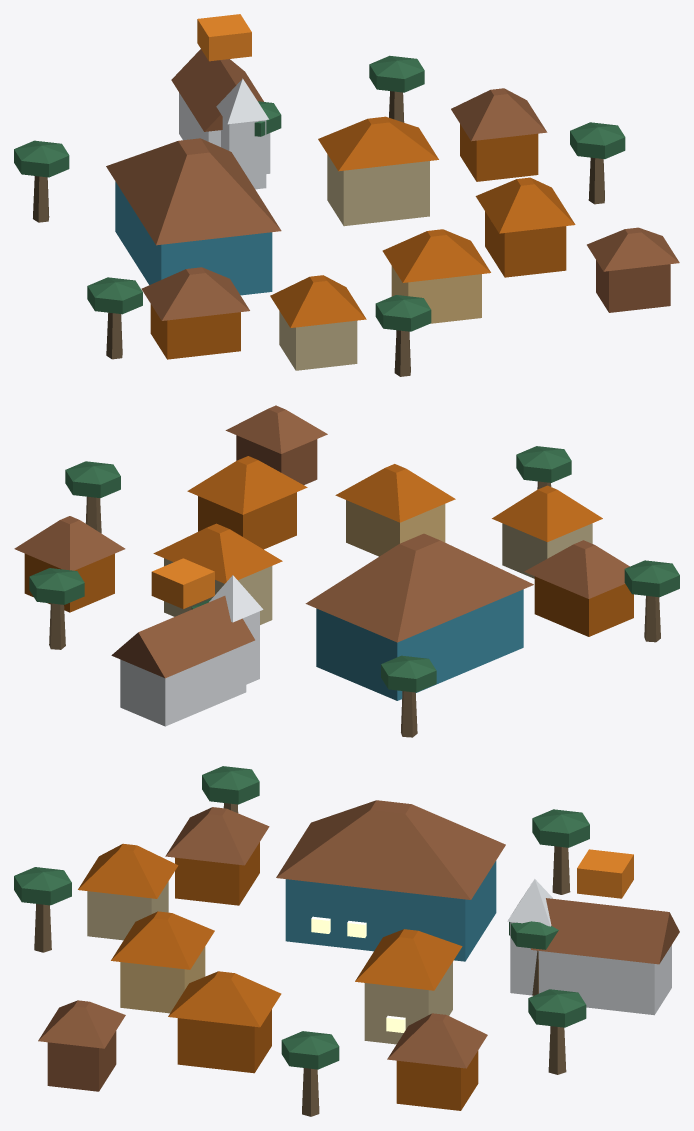
Rendered from overworld-settlement-latin-american-rural.glb.
The picture shows the model from 3 angles, top to bottom: view 1: azimuth 30°, elevation 25°; view 2: azimuth 150°, elevation 25°; view 3: azimuth 270°, elevation 25°; orthographic projection. The views are drawn at different scales.
Parts seen in each view (by area): view 1: settlement; view 2: settlement; view 3: settlement.
Boxes of the visible parts, left/top/right/bottom form: settlement: left=14, top=14, right=679, bottom=376; settlement: left=14, top=405, right=679, bottom=737; settlement: left=14, top=766, right=679, bottom=1116.
Bounding box in the file's own units: 0.5151 × 0.111 × 0.5009.
